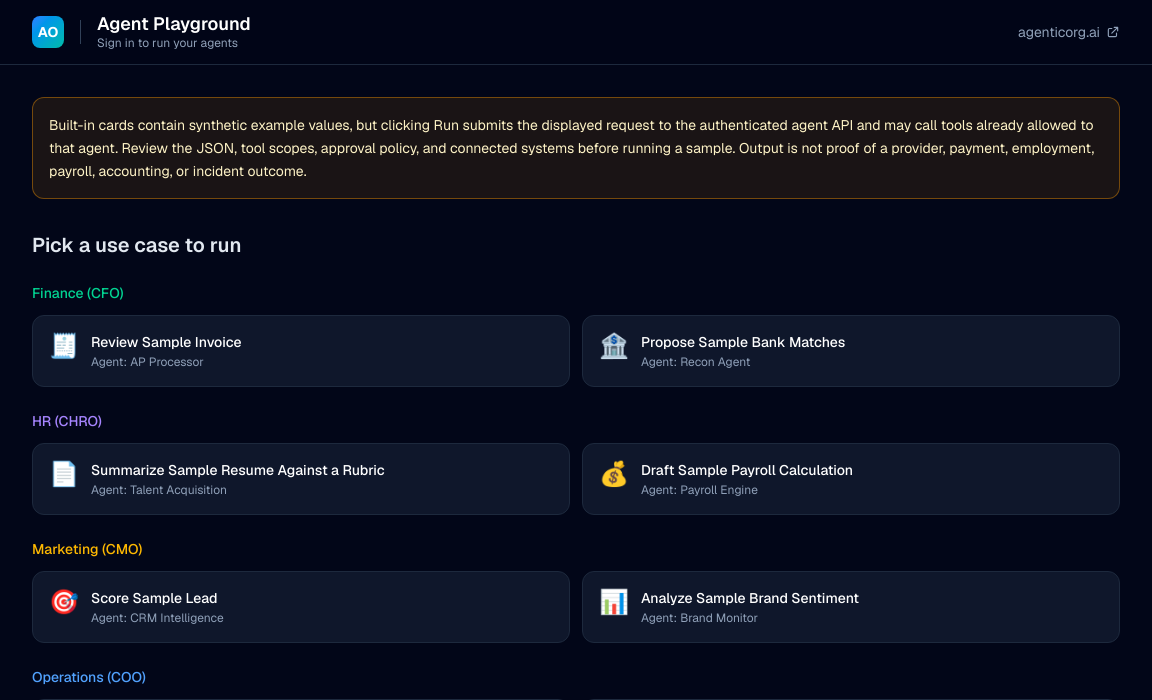
Playground cookie authentication › does not auto-login anonymous visitors and shows a sign-in action
This screenshot has width=1152, height=700.
Click the button "🧾 Review Sample Invoice Agent: AP Processor" at (166, 342), box [32,315,570,387]
(page scrolled)
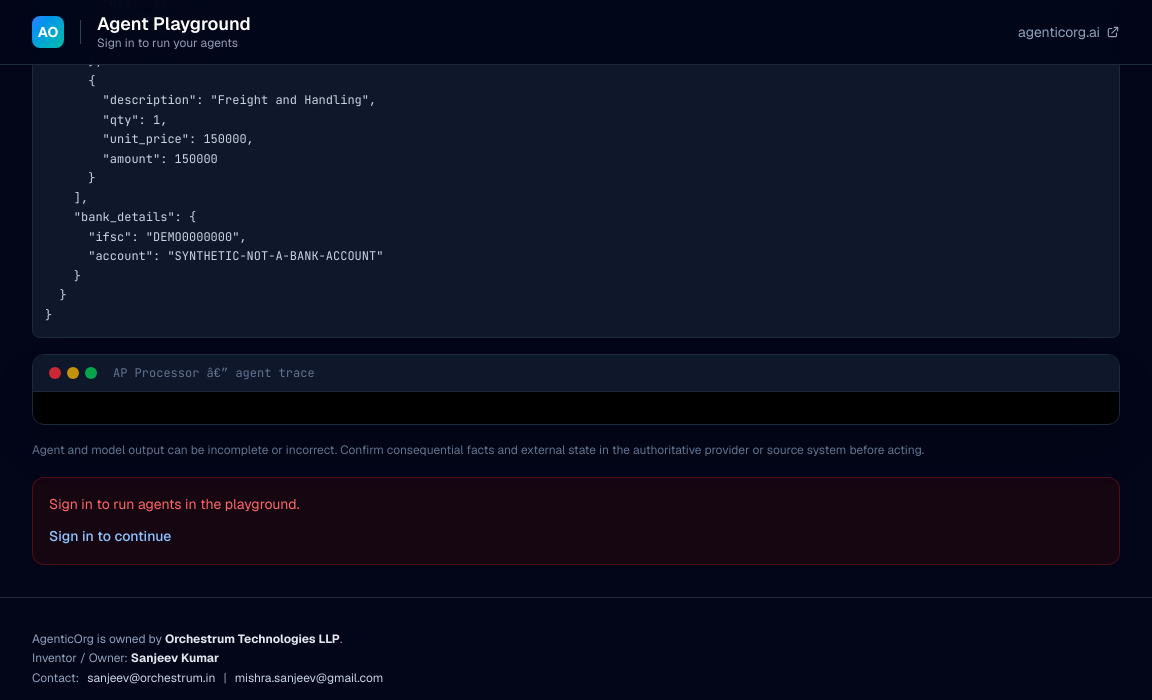
Check: the text "Sign in to run agents in the playground." is shown, box [49,495,300,513]
